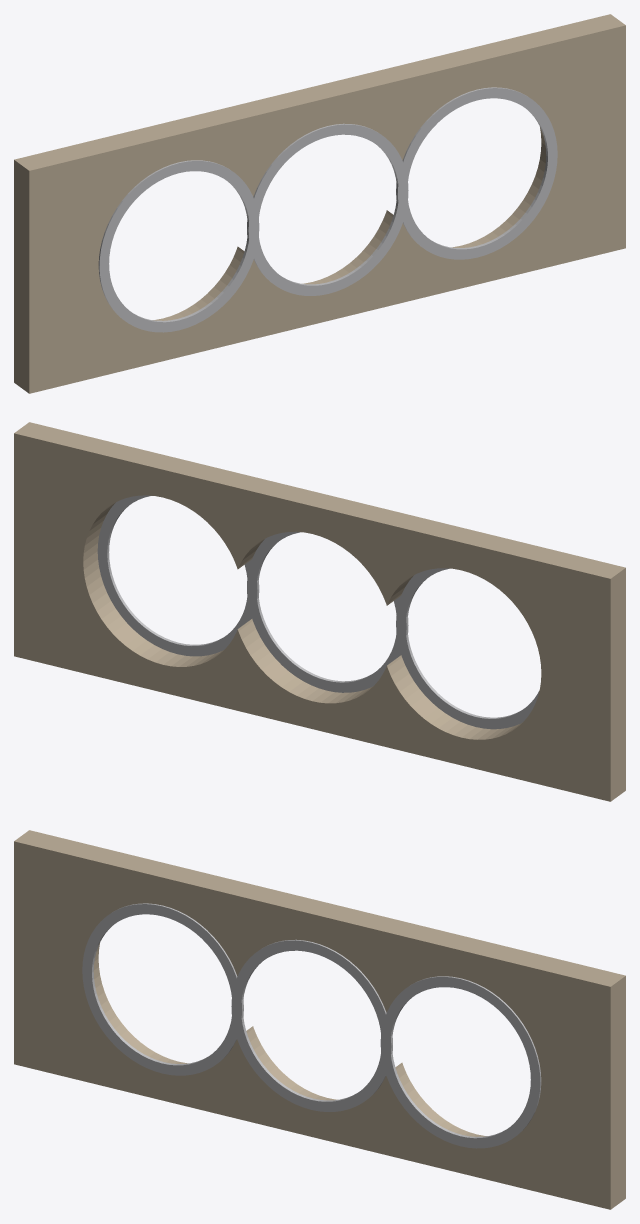
File: board-oak-empty.glb
3 renders of one model, top to bottom at view 1: azimuth 30°, elevation 25°; view 2: azimuth 150°, elevation 25°; view 3: azimuth 330°, elevation 25°, orthographic.
Visible parts, largest first — view 1: board, ring_0, ring_2, ring_1; view 2: board, ring_2, ring_1, ring_0; view 3: board, ring_0, ring_2, ring_1.
Boxes of the visible parts, <box> form: board: <box>14,14,625,393</box>; ring_0: <box>98,160,259,332</box>; ring_2: <box>396,87,557,259</box>; ring_1: <box>247,123,408,295</box>; board: <box>14,422,625,801</box>; ring_2: <box>97,495,259,656</box>; ring_1: <box>247,531,408,692</box>; ring_0: <box>396,568,539,729</box>; board: <box>14,830,625,1209</box>; ring_0: <box>82,903,243,1075</box>; ring_2: <box>380,976,541,1148</box>; ring_1: <box>231,939,392,1111</box>.
Size of the model in its own units: 0.56 by 0.2 by 0.0265.
